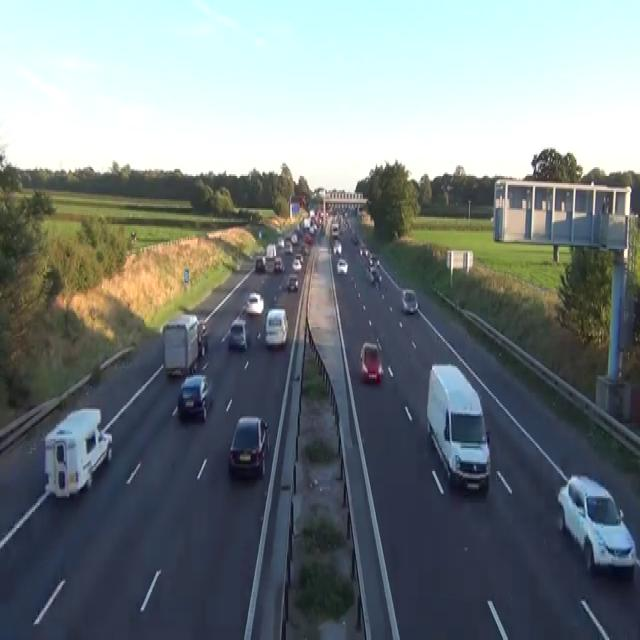Car: (557, 473, 636, 576), (228, 414, 269, 478), (177, 374, 213, 422), (359, 342, 383, 382), (264, 308, 288, 347), (227, 316, 247, 351), (401, 288, 418, 313), (245, 292, 264, 314), (197, 322, 208, 357), (365, 265, 381, 286), (336, 258, 348, 274), (255, 256, 266, 272), (287, 274, 298, 290), (273, 256, 284, 272), (369, 254, 379, 268), (333, 240, 342, 254), (292, 258, 301, 270), (284, 242, 293, 254), (300, 244, 308, 256), (294, 253, 303, 263), (305, 233, 313, 243), (351, 233, 358, 243), (277, 237, 284, 247), (290, 233, 297, 243), (130, 229, 136, 240), (309, 224, 315, 235), (344, 218, 350, 228), (258, 230, 262, 238)
Truck: (426, 362, 491, 492), (43, 406, 112, 500), (160, 313, 207, 377)
